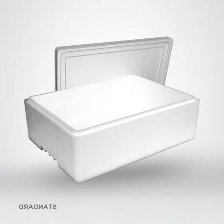foam_box: (18, 30, 207, 186)
